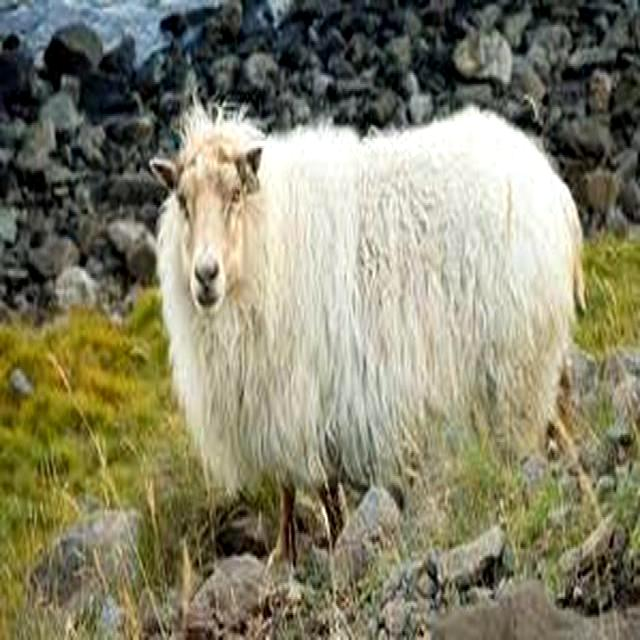sheep: (152, 91, 586, 565)
